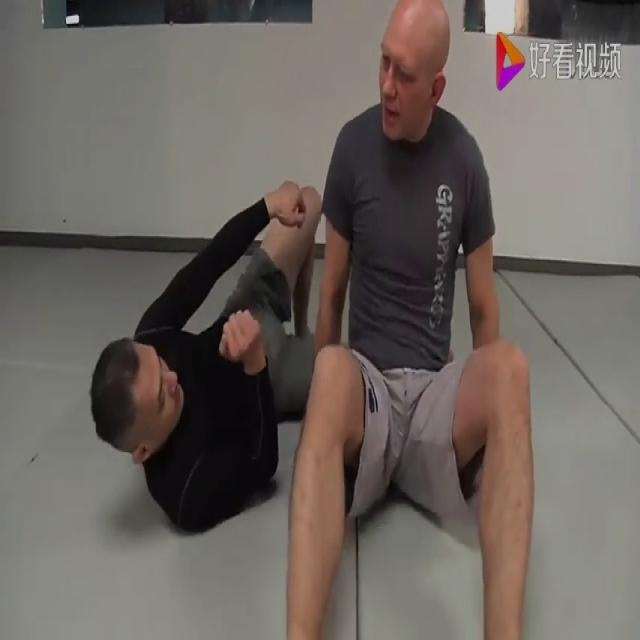fight: (62, 0, 526, 639)
